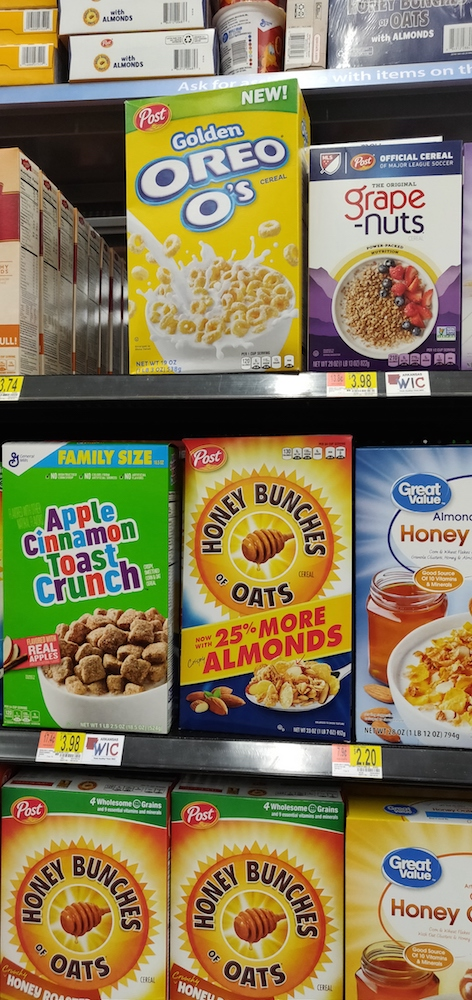Oreo Golden-568301011: (119, 100, 299, 378)
